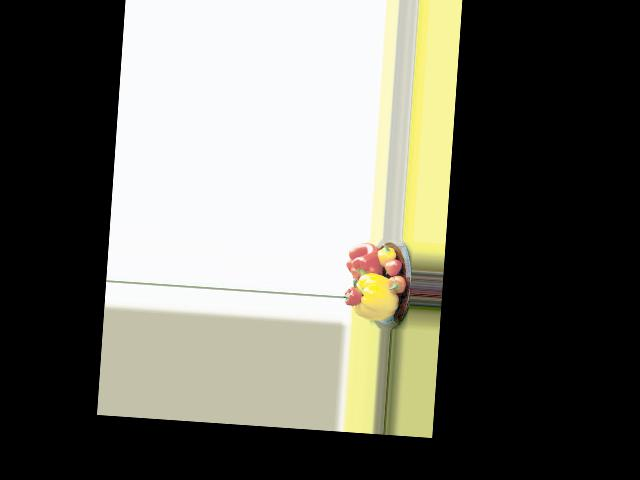bell_pepper: (376, 244, 395, 264)
